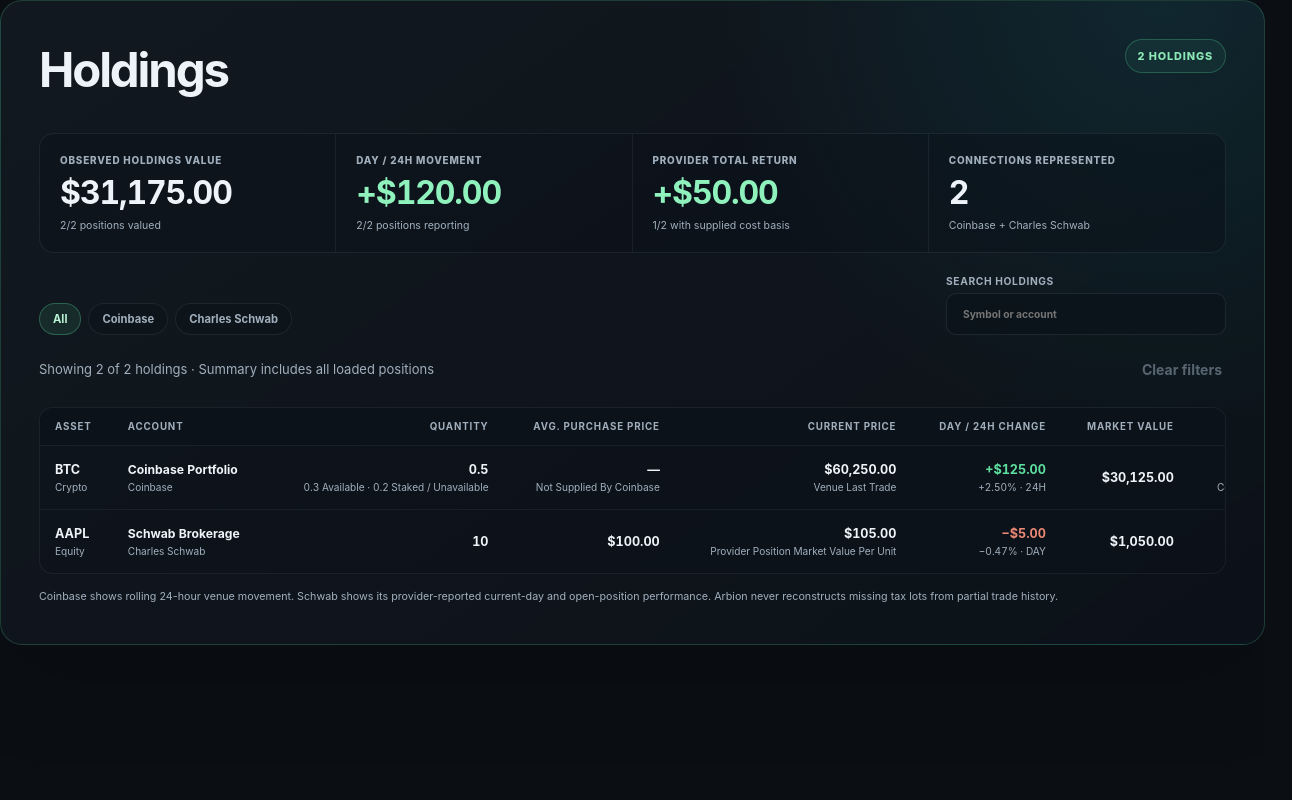
Scenario: PortfolioHoldingsLedger › filters across providers and account names
The width and height of the screenshot is (1292, 800).
Click the button "Coinbase" at x=128, y=319, box x1=88 y1=303 x2=168 y2=335
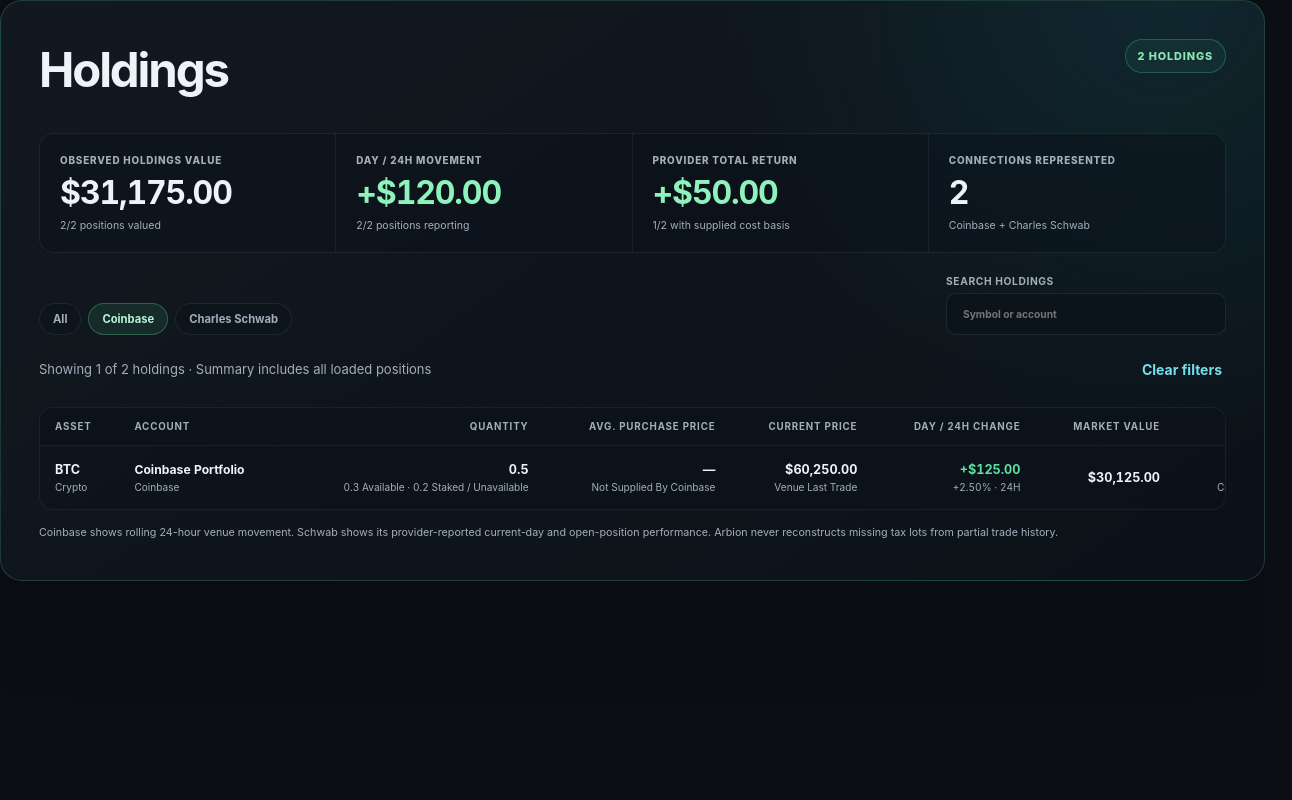
Check: the text "BTC" is shown, box x1=55 y1=462 x2=80 y2=477
Check: the text "AAPL" is gone
Click the button "All" at x=60, y=319, box x1=39 y1=303 x2=81 y2=335
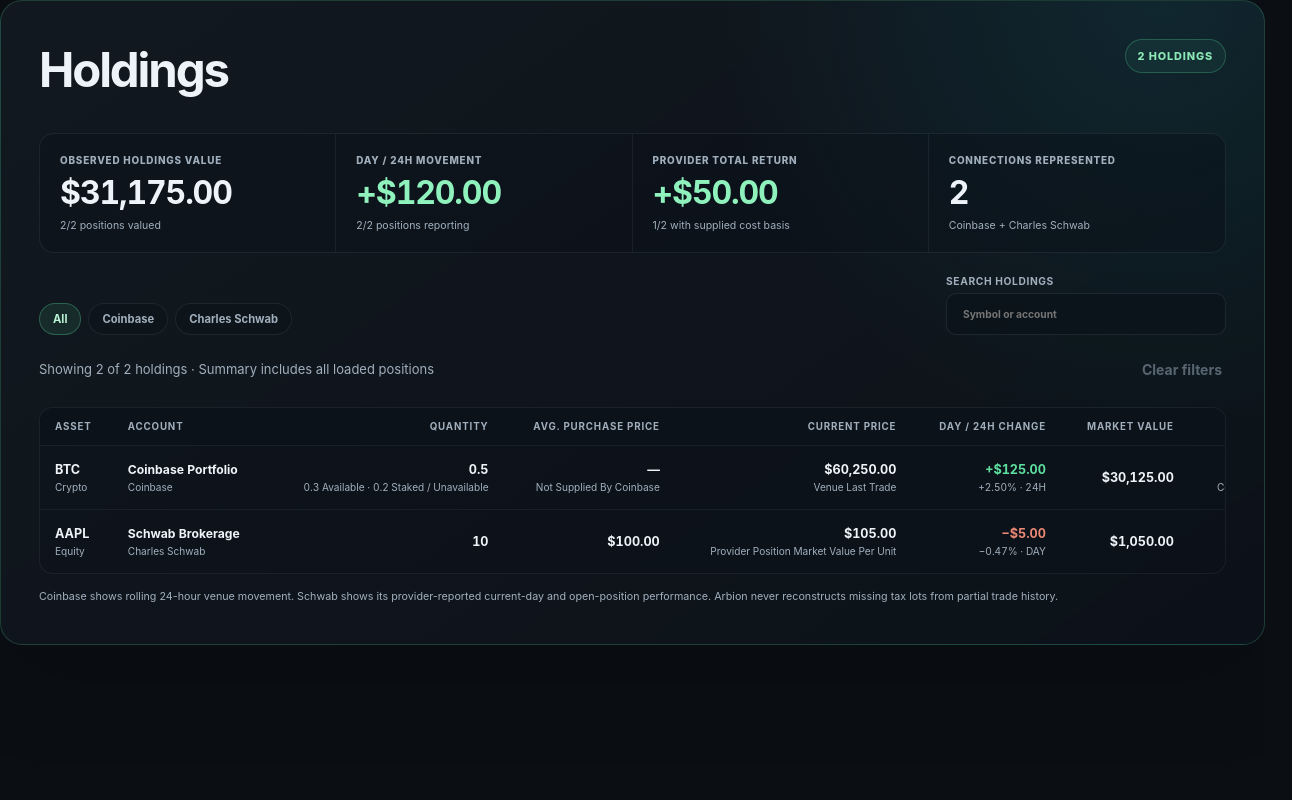
Type "brokerage" into the search field labelled "Search holdings" at x=1086, y=314, box x1=946 y1=293 x2=1226 y2=335
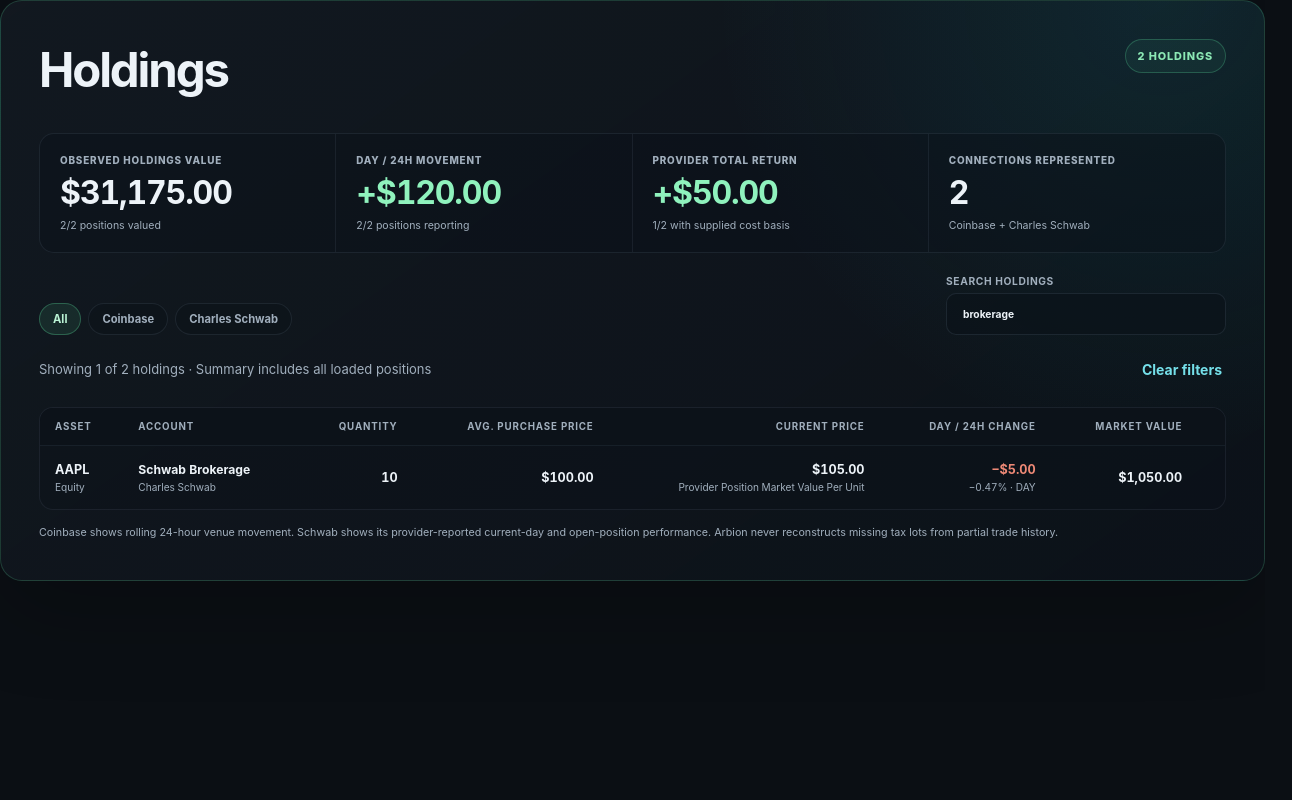
Check: the text "AAPL" is shown, box x1=55 y1=462 x2=89 y2=477
Check: the text "BTC" is gone
